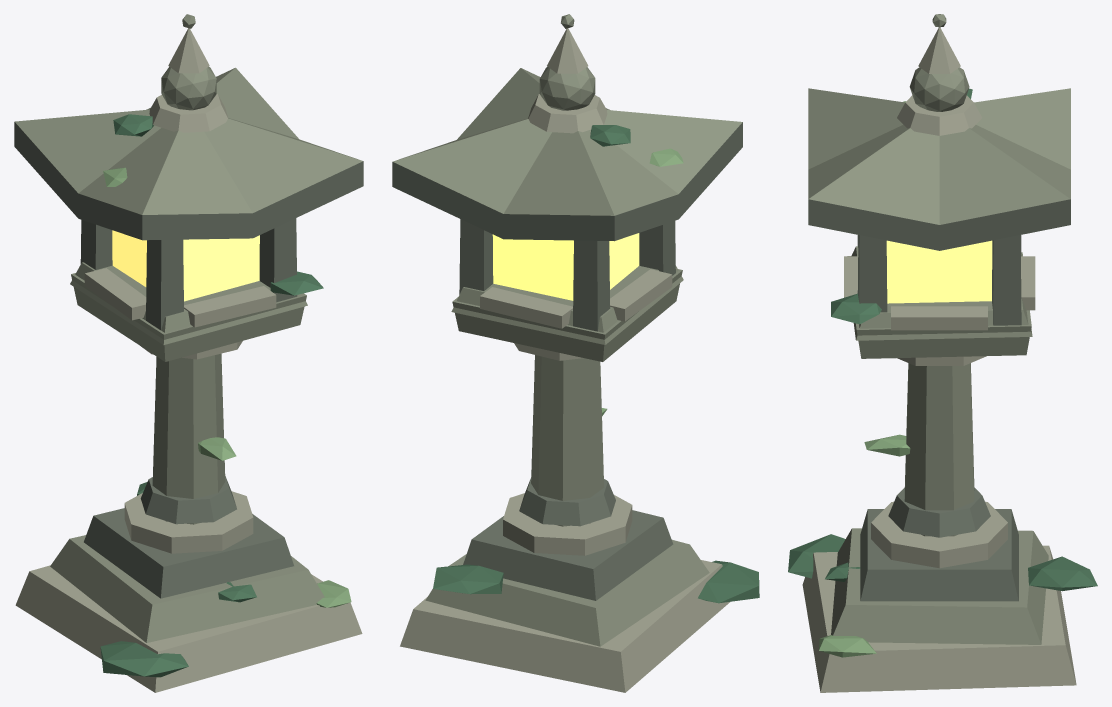
The model's file is stone_lantern.glb.
3 renders of one model, left to right at view 1: azimuth 30°, elevation 25°; view 2: azimuth 150°, elevation 25°; view 3: azimuth 270°, elevation 25°, orthographic. The views are drawn at different scales.
Visible parts, largest first — view 1: stone_lantern; view 2: stone_lantern; view 3: stone_lantern.
Part boxes in pixels (<box>): stone_lantern: <box>14,14,363,692</box>; stone_lantern: <box>392,14,759,692</box>; stone_lantern: <box>788,14,1097,692</box>.
Bounding box in the file's own units: 1.06 × 2.4 × 1.09.
